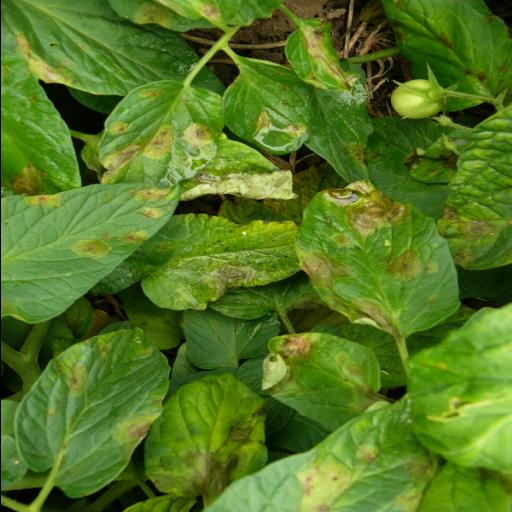disease_tomato: (22, 325, 178, 499), (205, 398, 438, 512), (0, 180, 178, 322), (303, 182, 457, 330), (112, 216, 304, 309), (142, 372, 260, 512), (381, 0, 512, 111), (98, 84, 224, 188), (256, 334, 402, 422), (434, 106, 512, 270), (222, 56, 318, 156), (284, 24, 352, 90)
